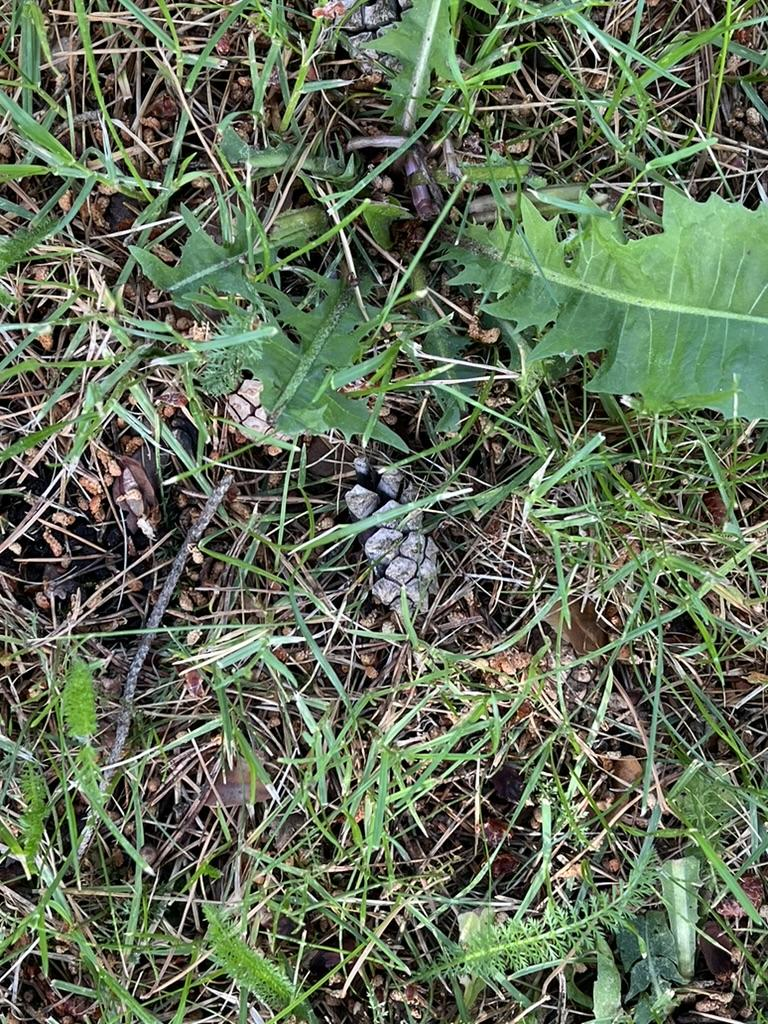pine: (341, 443, 466, 618), (206, 360, 296, 468), (303, 0, 441, 70)
